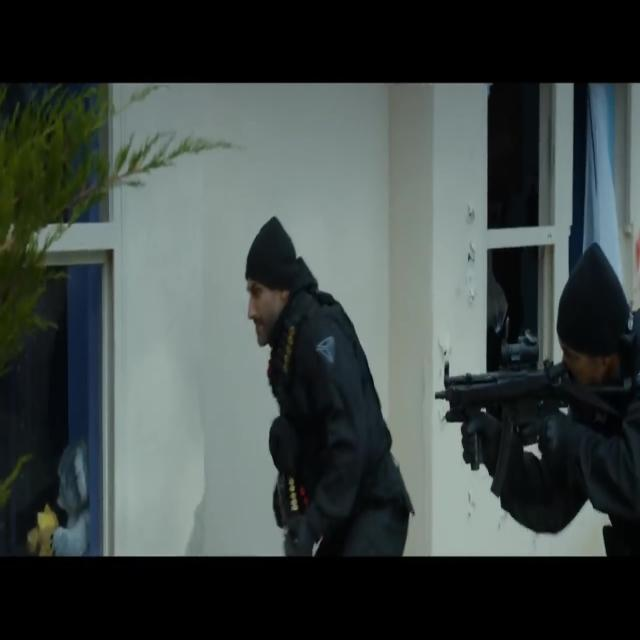Weapon: (410, 237, 632, 528), (240, 418, 342, 572)
